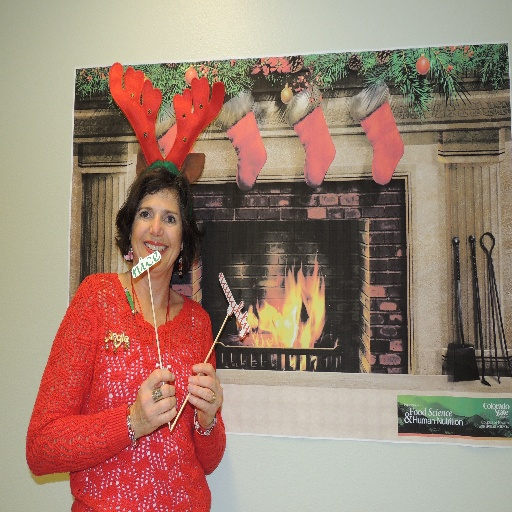hand: (131, 367, 178, 437), (184, 372, 218, 435)
